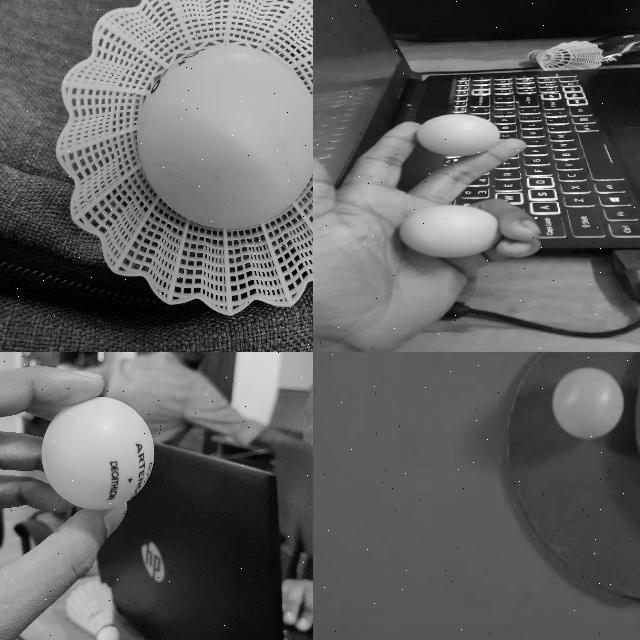ping-pong-ball: (134, 46, 312, 228), (40, 396, 154, 508), (399, 206, 500, 258), (553, 366, 623, 438), (416, 114, 496, 154)
